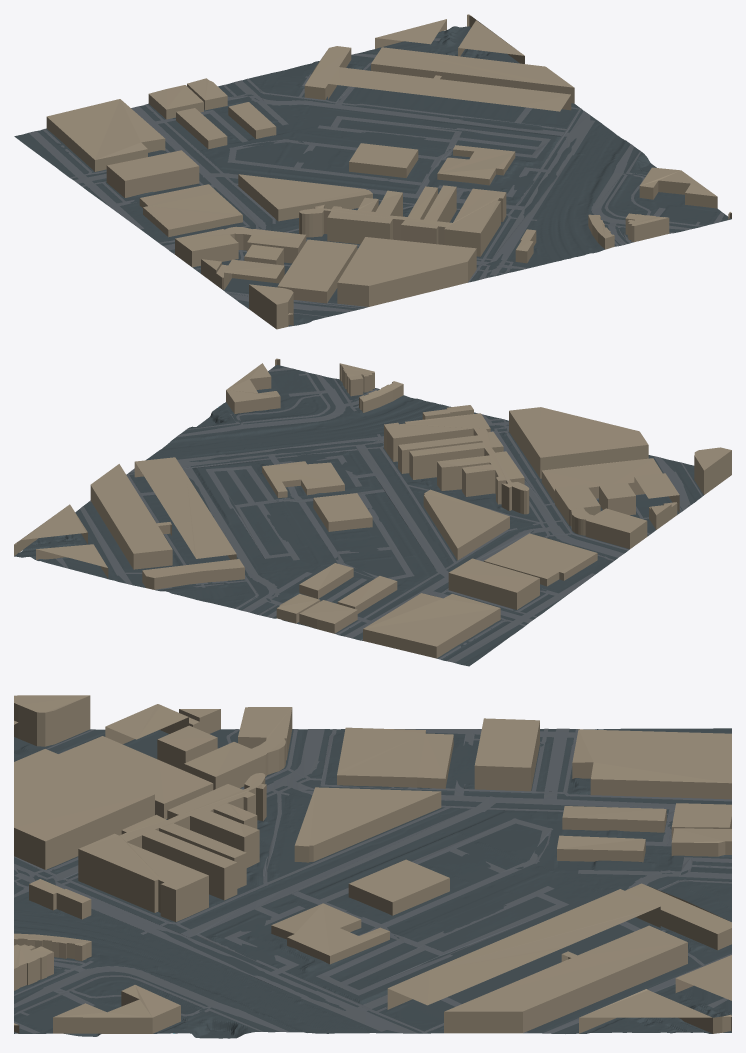
Rendered from epsg26910-1439-10886.lod0.glb.
The picture shows the model from 3 angles, top to bottom: view 1: azimuth 30°, elevation 25°; view 2: azimuth 150°, elevation 25°; view 3: azimuth 270°, elevation 25°; orthographic projection. The views are drawn at different scales.
Parts seen in each view (by area): view 1: epsg26910-1439-10886-lod0; view 2: epsg26910-1439-10886-lod0; view 3: epsg26910-1439-10886-lod0.
Boxes of the visible parts, x1=… form: epsg26910-1439-10886-lod0: x1=14, y1=14, x2=731, y2=329; epsg26910-1439-10886-lod0: x1=14, y1=358, x2=731, y2=666; epsg26910-1439-10886-lod0: x1=14, y1=695, x2=731, y2=1038.
Size of the model in its own units: 384 by 24.26 by 384.
